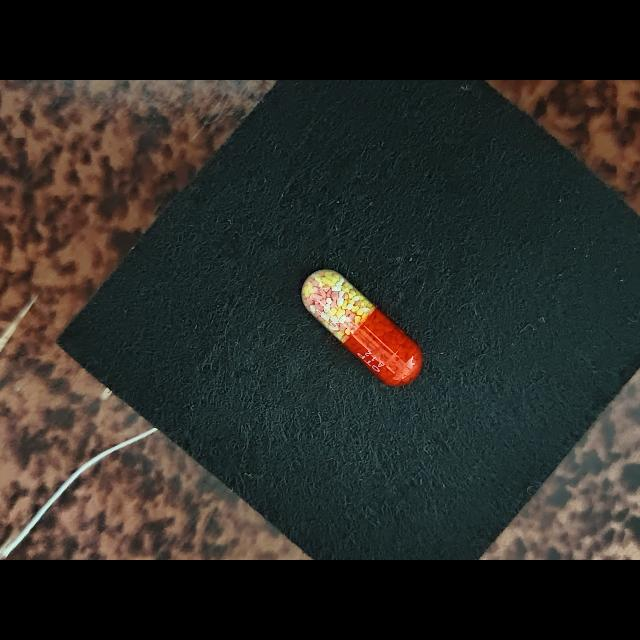Intact Capsule: (302, 269, 423, 387)
